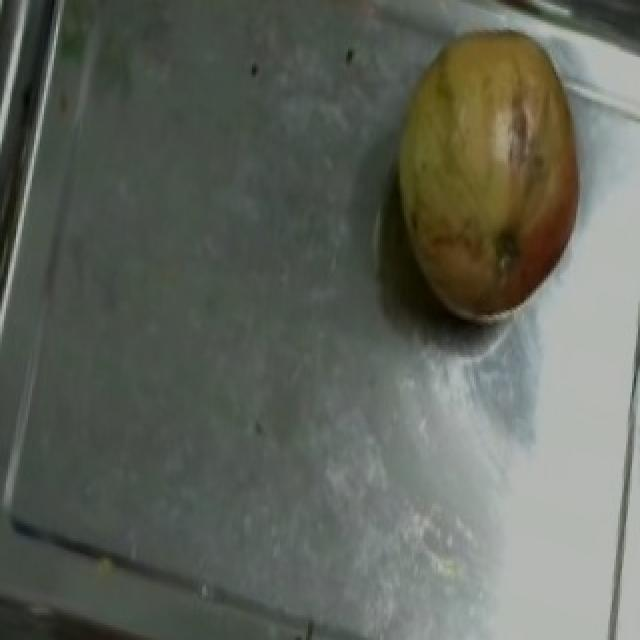fruit: (362, 0, 608, 246)
